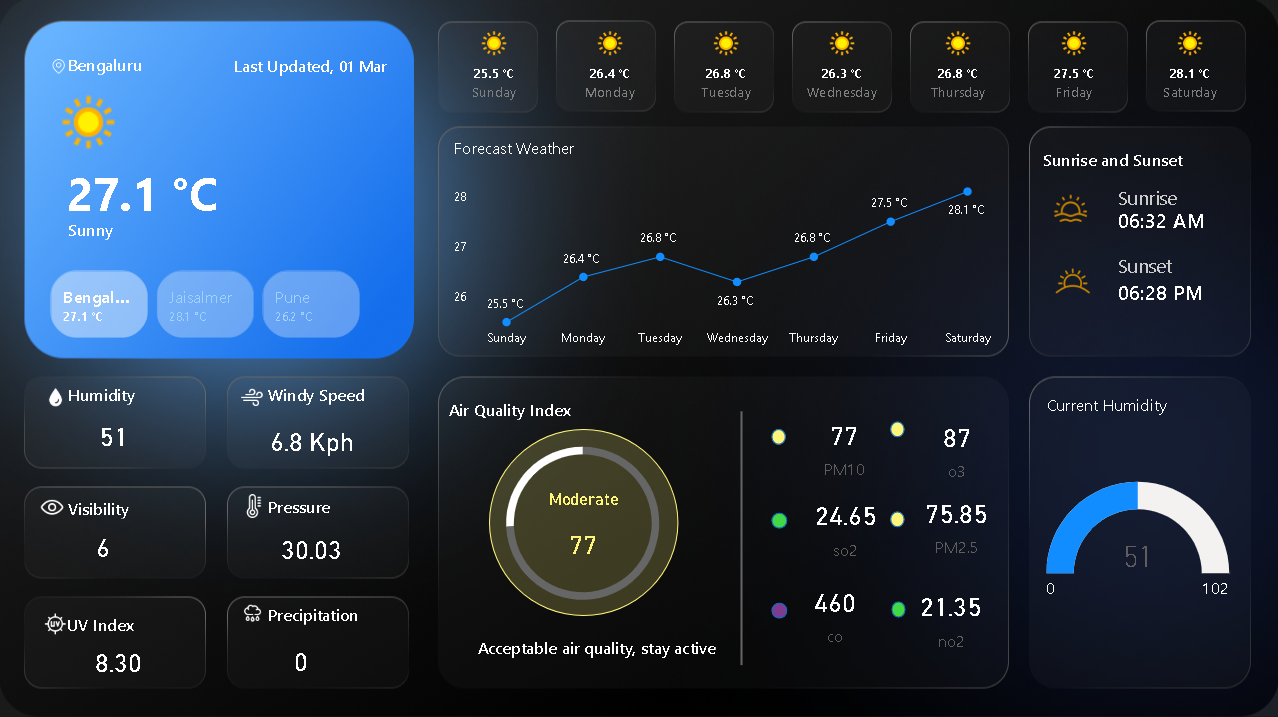

The dashboard page shown, as its layout file describes it:
{"tool":"powerbi","page":{"name":"Page 1","canvas":[1280,720],"ordinal":0},"visuals":[{"type":"shape","box":[489.8,429.5,189.4,187],"z":0},{"type":"advancedSlicerVisual","fields":{"Values":["locations.location.name"]},"box":[26.2,266.2,361.2,78.8],"z":1000},{"type":"shape","box":[67.6,138.7,197.9,108.6],"z":2000},{"type":"shape","box":[68.8,208.7,197.9,41],"z":3000},{"type":"shape","box":[68.6,44.3,138.6,41.4],"z":4000},{"type":"shape","box":[217.2,44.6,170.1,41],"z":5000},{"type":"image","box":[53.1,53.8,14.6,26.9],"z":6000},{"type":"card","fields":{"Values":["Sum(Current.current.humidity)"]},"box":[55.6,410,118.9,54.4],"z":7000},{"type":"image","box":[44.4,388.9,23.3,18.9],"z":8000},{"type":"shape","box":[68.9,373.3,170,41.1],"z":9000},{"type":"shape","box":[269.2,374.2,170,40.8],"z":10000},{"type":"shape","box":[68,604,170,41],"z":11000},{"type":"shape","box":[269.2,485.8,170,41.7],"z":12000},{"type":"shape","box":[69,487,170,41],"z":13000},{"type":"shape","box":[269.2,594.2,170,40.8],"z":14000},{"type":"image","box":[240,604.2,26.7,20.8],"z":15000},{"type":"image","box":[37,495,31,26],"z":16000},{"type":"image","box":[241.7,380.8,23.3,34.2],"z":17000},{"type":"image","box":[36,614,40,22],"z":18000},{"type":"image","box":[241.7,495,27.5,24.2],"z":19000},{"type":"card","fields":{"Values":["_Measures.wind_speed"]},"box":[253.3,414.4,118.9,54.4],"z":20000},{"type":"card","fields":{"Values":["Sum(Current.current.pressure_in)"]},"box":[253.3,522.2,118.9,54.4],"z":21000},{"type":"card","fields":{"Values":["Sum(Current.current.vis_km)"]},"box":[44.4,521.1,118.9,54.4],"z":22000},{"type":"card","fields":{"Values":["Sum(Current.current.precip_in)"]},"box":[242.2,635.6,118.9,54.4],"z":23000},{"type":"card","fields":{"Values":["Sum(Current.current.uv)"]},"box":[60,636.7,118.9,54.4],"z":24000},{"type":"shape","box":[1043.3,138.9,170,41.1],"z":25000},{"type":"shape","box":[1118.3,180,73.3,38.3],"z":26000},{"type":"shape","box":[1118.3,246.7,99.2,40],"z":27000},{"type":"shape","box":[1118.3,193.3,107.5,53.3],"z":28000},{"type":"shape","box":[1118.3,265,107.5,55],"z":29000},{"type":"image","box":[1043.3,258.3,60,46],"z":30000},{"type":"image","box":[1051.7,192.5,40.8,33.3],"z":31000},{"type":"gauge","title":"Current Humidity","fields":{"Y":["Sum(Current.current.humidity)"]},"box":[1042.9,394.3,192.9,280],"z":32000},{"type":"advancedSlicerVisual","fields":{"Values":["Forecast_Day.Day_Name"]},"box":[436.7,15.7,815.6,103.8],"z":33000},{"type":"lineChart","title":"Forecast Weather","fields":{"Y":["Sum(Forecast_Day.forecast.forecastday.day.avgtemp_c)"],"Category":["Forecast_Day.Day_Name"]},"box":[450.6,136.3,554.5,221.2],"z":34000},{"type":"shape","box":[450.6,388.5,170,41.8],"z":35000},{"type":"card","fields":{"Values":["Sum(Current.current.air_quality.pm10)"]},"box":[805.7,412.9,78.6,70],"z":36000},{"type":"card","fields":{"Values":["Sum(Current.current.air_quality.co)"]},"box":[791.4,580,90,68.6],"z":37000},{"type":"card","fields":{"Values":["Sum(Current.current.air_quality.pm2_5)"]},"box":[918.6,487.1,78.6,75.7],"z":38000},{"type":"card","fields":{"Values":["Sum(Current.current.air_quality.o3)"]},"box":[912.9,412.9,91.4,72.9],"z":39000},{"type":"card","fields":{"Values":["Sum(Current.current.air_quality.so2)"]},"box":[807.1,490,78.6,75.7],"z":40000},{"type":"card","fields":{"Values":["Sum(Current.current.air_quality.no2)"]},"box":[905.7,584.3,92.9,70],"z":41000},{"type":"shape","box":[772.9,430,14.3,15.7],"z":42000},{"type":"shape","box":[772.9,514.3,15.7,15.7],"z":43000},{"type":"shape","box":[772.9,604.3,15.7,15.7],"z":44000},{"type":"shape","box":[891.4,422.9,14.3,15.7],"z":45000},{"type":"shape","box":[891.4,512.9,14.3,15.7],"z":46000},{"type":"shape","box":[892,603,14,16],"z":47000},{"type":"shape","box":[698.8,412.5,87.5,253.8],"z":48000},{"type":"card","fields":{"Values":["Sum(Current.current.air_quality.pm10)"]},"box":[535.7,489.8,96.5,90.5],"z":49000},{"type":"donutChart","fields":{"Y":["_Measure.Left_Value_PM10","Sum(Current.current.air_quality.pm10)"]},"box":[468.1,423.5,232.8,201.5],"z":50000},{"type":"shape","box":[469.3,622.5,258.2,51.9],"z":51000},{"type":"advancedSlicerVisual","fields":{"Values":["Current.current.condition.icon"]},"box":[36.2,89.3,106.2,70],"z":51001}]}

Visuals, with their boxes in screenshot pixels (x1, y1, x2, y2), scaled from the page's 1280x720 canvas onto the 1278x717 screenshot:
shape: (489,428,678,614)
advancedSlicerVisual - locations.location.name: (26,265,387,344)
shape: (67,138,265,246)
shape: (69,208,266,249)
shape: (68,44,207,85)
shape: (217,44,387,85)
image: (53,54,68,80)
card - Sum(Current.current.humidity): (56,408,174,462)
image: (44,387,68,406)
shape: (69,372,239,413)
shape: (269,373,439,413)
shape: (68,601,238,642)
shape: (269,484,439,525)
shape: (69,485,239,526)
shape: (269,592,439,632)
image: (240,602,266,622)
image: (37,493,68,519)
image: (241,379,265,413)
image: (36,611,76,633)
image: (241,493,269,517)
card - _Measures.wind_speed: (253,413,372,467)
card - Sum(Current.current.pressure_in): (253,520,372,574)
card - Sum(Current.current.vis_km): (44,519,163,573)
card - Sum(Current.current.precip_in): (242,633,361,687)
card - Sum(Current.current.uv): (60,634,179,688)
shape: (1042,138,1211,179)
shape: (1117,179,1190,217)
shape: (1117,246,1216,286)
shape: (1117,192,1224,246)
shape: (1117,264,1224,319)
image: (1042,257,1102,303)
image: (1050,192,1091,225)
"Current Humidity" gauge: (1041,393,1234,671)
advancedSlicerVisual - Forecast_Day.Day_Name: (436,16,1250,119)
"Forecast Weather" lineChart: (450,136,1004,356)
shape: (450,387,620,429)
card - Sum(Current.current.air_quality.pm10): (804,411,883,481)
card - Sum(Current.current.air_quality.co): (790,578,880,646)
card - Sum(Current.current.air_quality.pm2_5): (917,485,996,560)
card - Sum(Current.current.air_quality.o3): (911,411,1003,484)
card - Sum(Current.current.air_quality.so2): (806,488,884,563)
card - Sum(Current.current.air_quality.no2): (904,582,997,652)
shape: (772,428,786,444)
shape: (772,512,787,528)
shape: (772,602,787,617)
shape: (890,421,904,437)
shape: (890,511,904,526)
shape: (891,600,905,616)
shape: (698,411,785,664)
card - Sum(Current.current.air_quality.pm10): (535,488,631,578)
donutChart - _Measure.Left_Value_PM10 x Sum(Current.current.air_quality.pm10): (467,422,700,622)
shape: (469,620,726,672)
advancedSlicerVisual - Current.current.condition.icon: (36,89,142,159)
